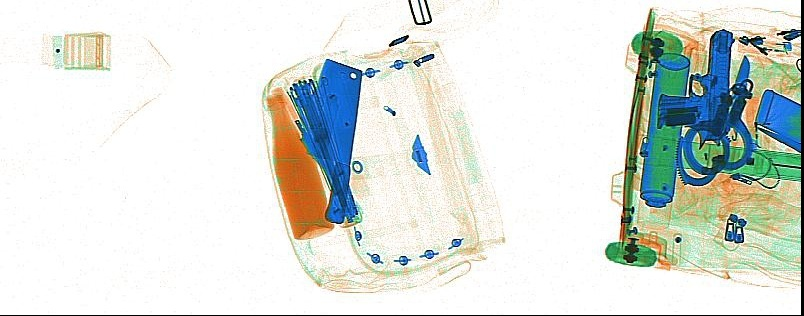handcuffs: (673, 79, 752, 186)
knife: (304, 57, 361, 224), (722, 54, 751, 170)
pressure: (635, 53, 690, 208)
scissors: (751, 121, 799, 153)
zippooil: (753, 87, 799, 144)
